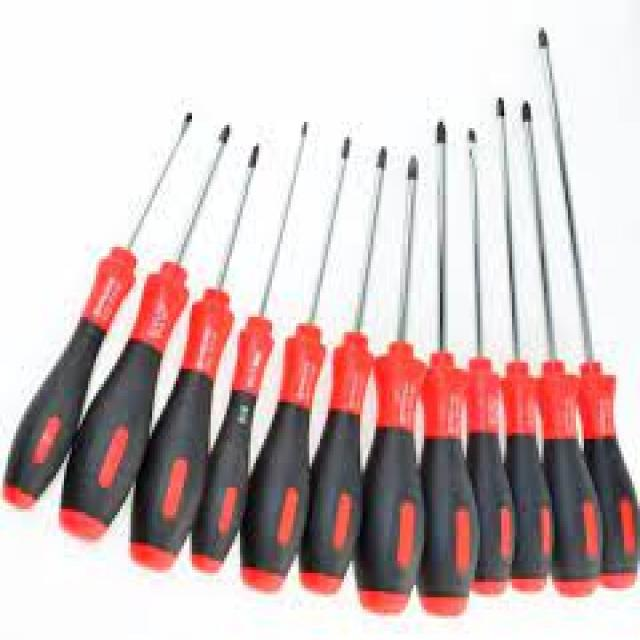screwdriver: (2, 110, 194, 516), (56, 115, 235, 542), (530, 20, 640, 599), (124, 137, 263, 579), (186, 115, 312, 578), (238, 134, 354, 597), (294, 138, 390, 596), (520, 96, 603, 605), (406, 119, 482, 619), (350, 150, 426, 618), (490, 95, 554, 594), (461, 125, 512, 598)
